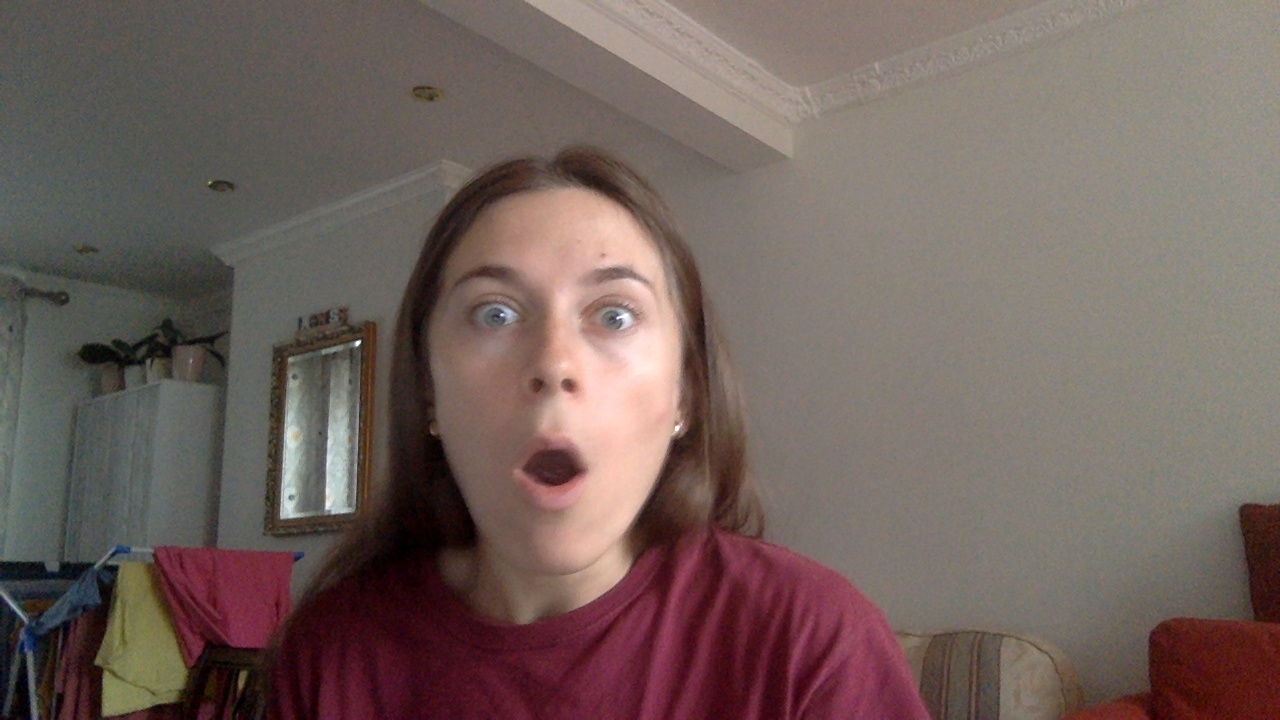surprise: (512, 432, 593, 512)
